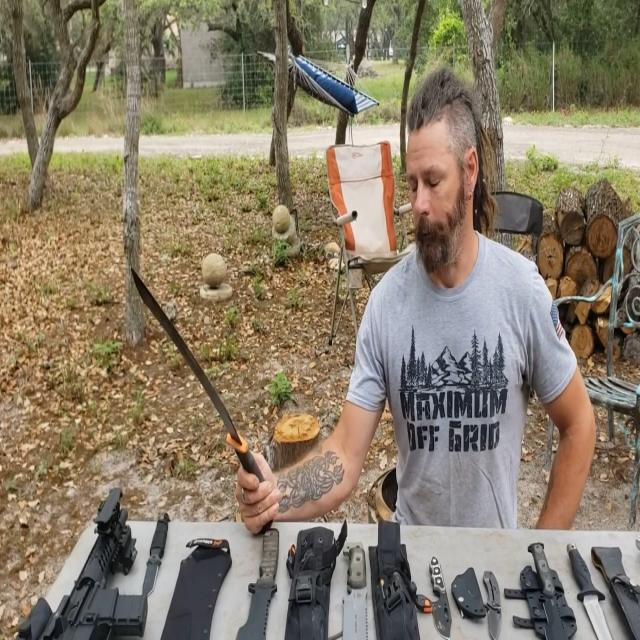knife: (120, 264, 269, 496), (237, 498, 291, 639), (564, 529, 628, 639), (517, 526, 573, 639), (336, 532, 389, 640), (411, 554, 468, 635), (140, 502, 184, 600), (471, 556, 505, 639)
long weapon: (11, 466, 177, 639)
